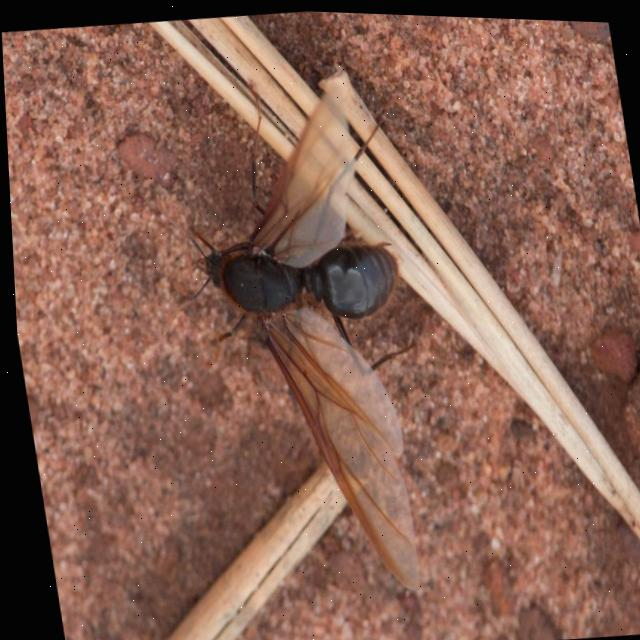Alive-Male-Alate: (123, 62, 452, 611)
